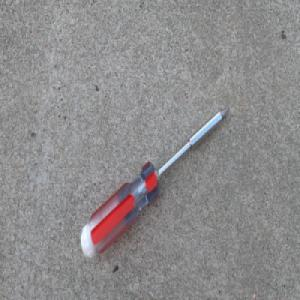Screwdriver: (79, 105, 230, 261)
